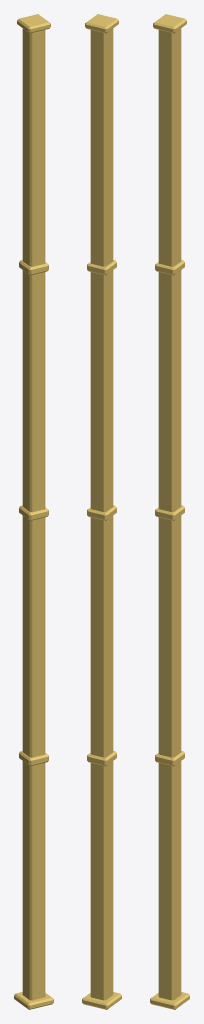
The model's file is SM_Post_0p25x15p05x0p25.glb.
The picture shows the model from 3 angles, left to right: view 1: azimuth 30°, elevation 25°; view 2: azimuth 150°, elevation 25°; view 3: azimuth 330°, elevation 25°; orthographic projection.
Visible parts, largest first — view 1: SM_Post_0p25x15p05x0p25; view 2: SM_Post_0p25x15p05x0p25; view 3: SM_Post_0p25x15p05x0p25.
Boxes of the visible parts, x1,y1,x2,y2 form: SM_Post_0p25x15p05x0p25: (14, 14, 53, 1009); SM_Post_0p25x15p05x0p25: (82, 14, 121, 1009); SM_Post_0p25x15p05x0p25: (150, 14, 189, 1009).
Size of the model in its own units: 0.425 by 15.05 by 0.425.
